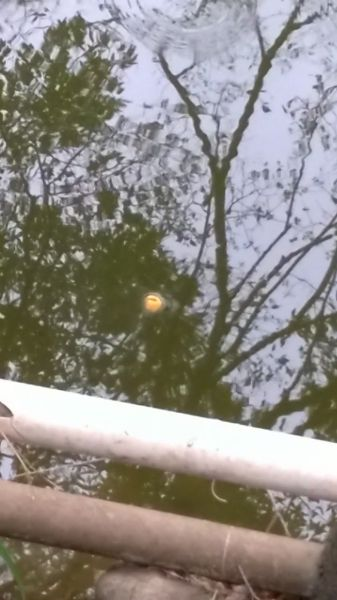eggs: (139, 286, 167, 318)
